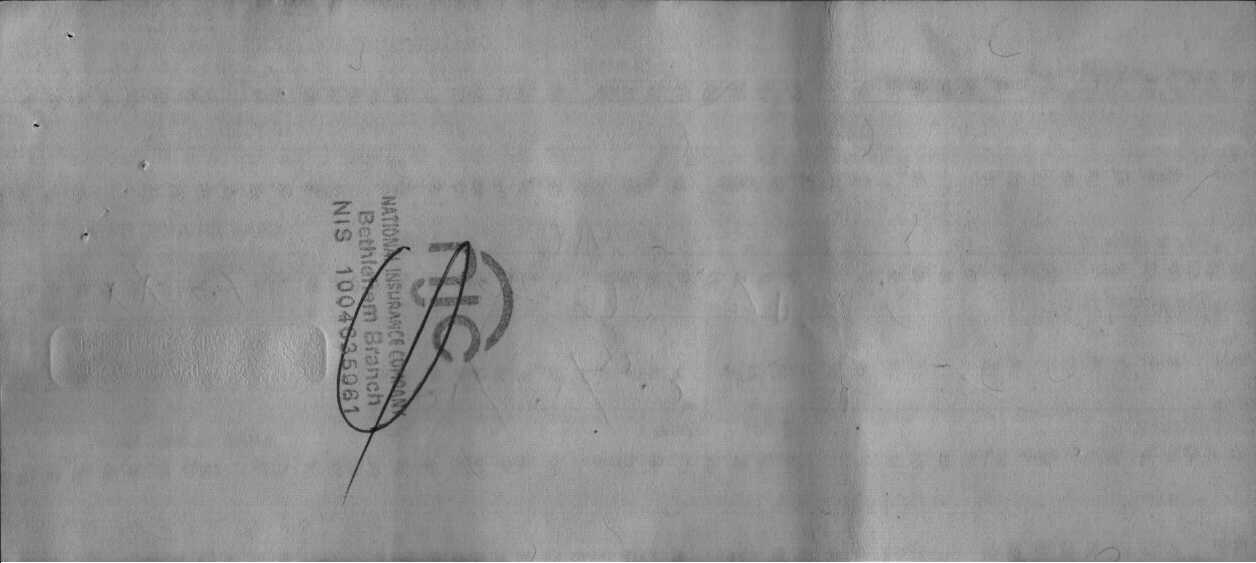stamp: (317, 182, 520, 422)
